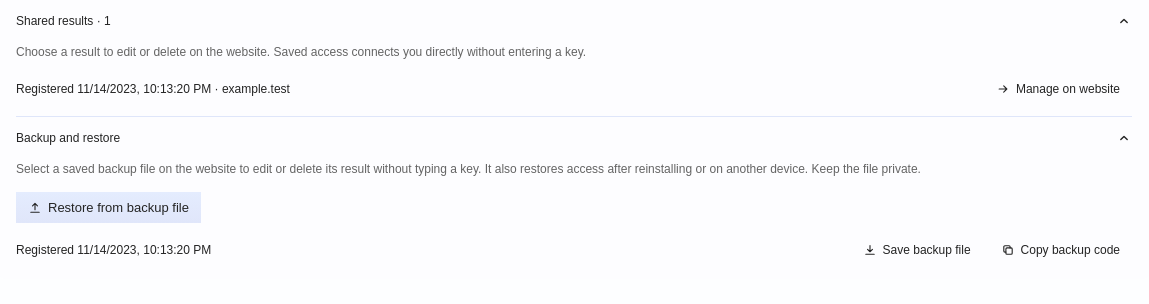
Test case: owned recovery list › explains a ownership_missing connection failure without displaying native details
This screenshot has width=1149, height=304.
Click the button "Manage on website": (1058, 89) [984, 74, 1132, 104]
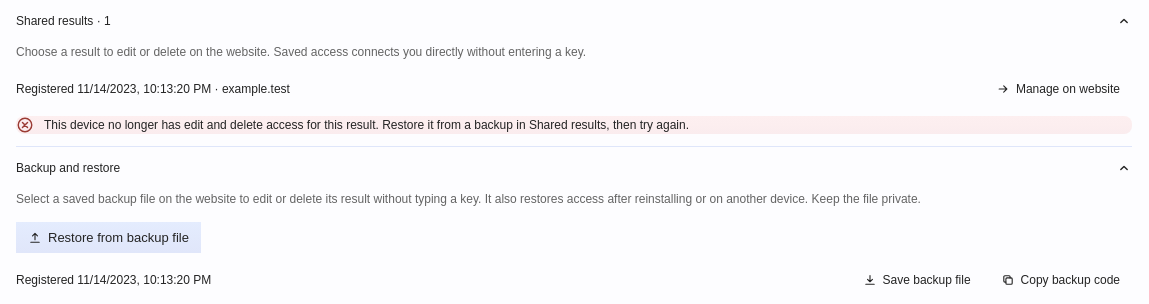
Expected: the message shows "This device no longer has edit and delete access for this result.", [44, 118, 689, 132]
